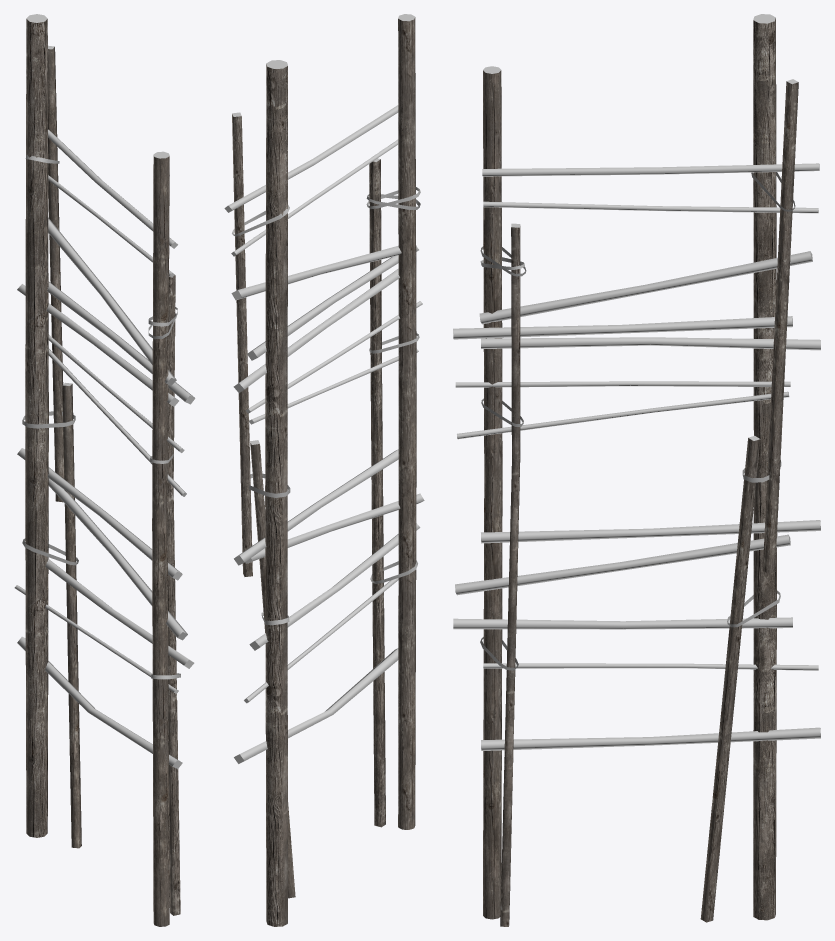
File: Scaff3_LOD1.fbx
3 views of the same model, side by side, from view 1: azimuth 30°, elevation 25°; view 2: azimuth 150°, elevation 25°; view 3: azimuth 270°, elevation 25° (orthographic). The views are drawn at different scales.
Parts seen in each view (by area): view 1: polySurface1214; view 2: polySurface1214; view 3: polySurface1214.
Boxes of the visible parts, x1,y1,x2,y2 form: polySurface1214: (14, 14, 195, 926); polySurface1214: (224, 14, 424, 926); polySurface1214: (453, 14, 820, 926).
Bounding box in the file's own units: 0.3661 × 6.38 × 2.37.
